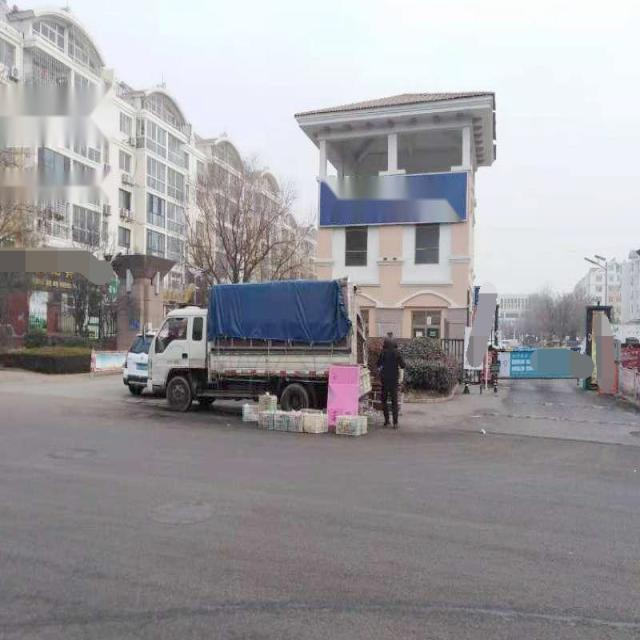car: (144, 280, 362, 414)
fixed_stall: (239, 392, 369, 435)
